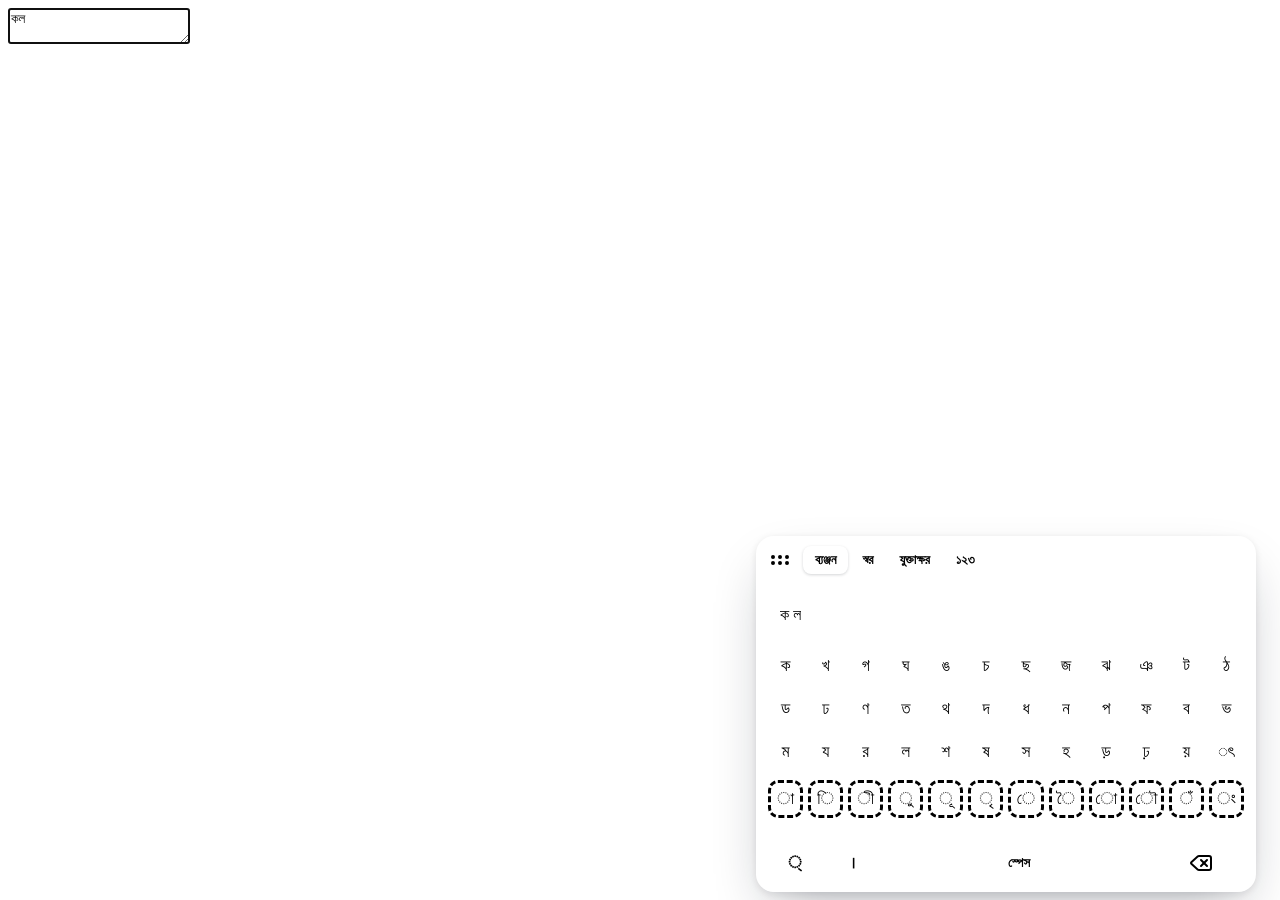
Scenario: BanglaKeyboard › inserts at the cursor rather than at the end
Step 1. Click the button "◌া" → (786, 798), box [768,780,803,818]
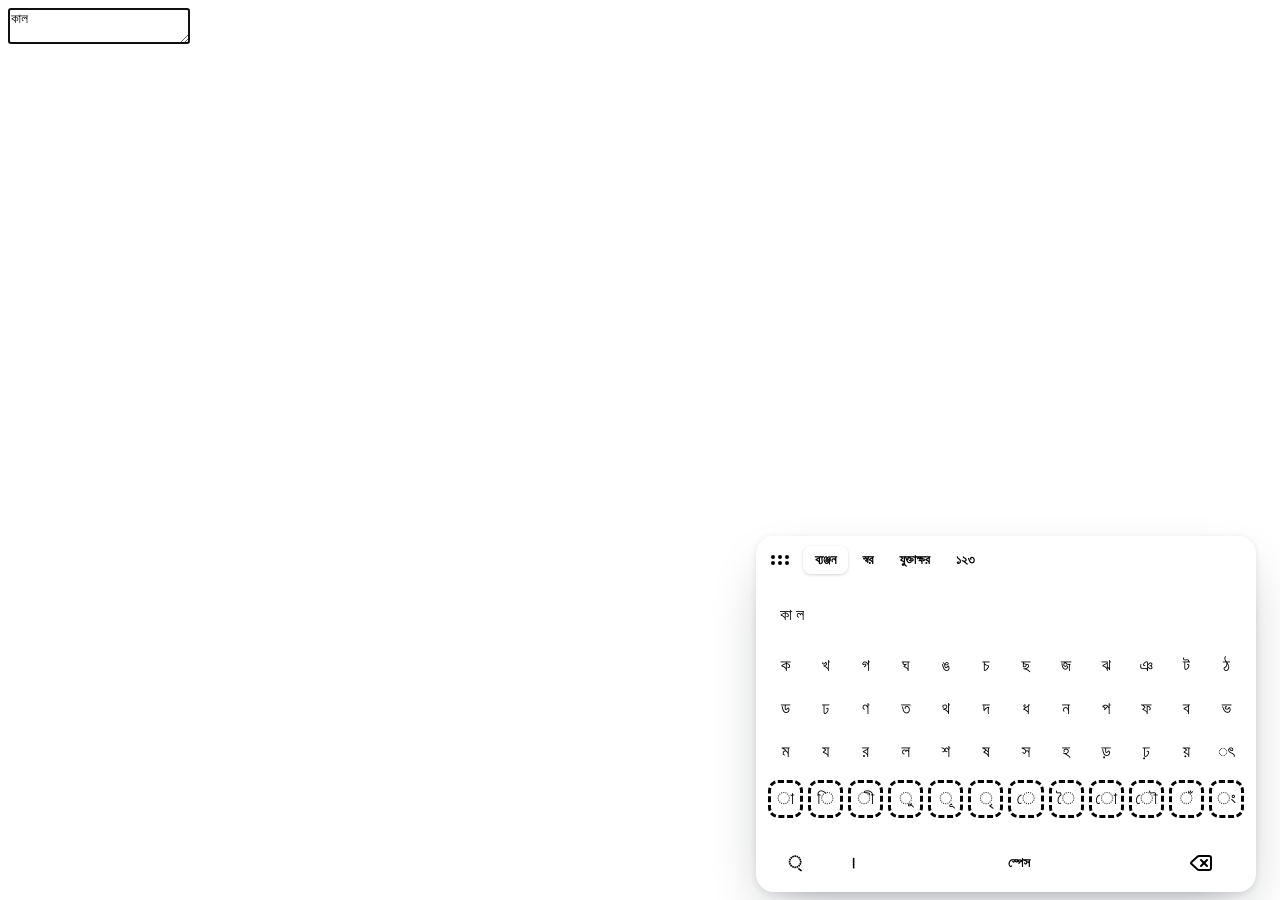
Expected: the text box named "advice" holds "কাল", [8,8,190,44]
